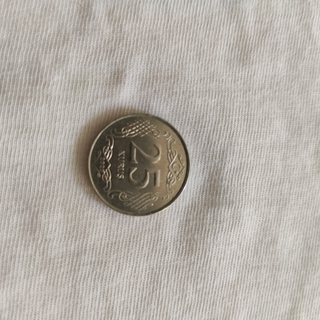25KURUS: (85, 111, 190, 217)
